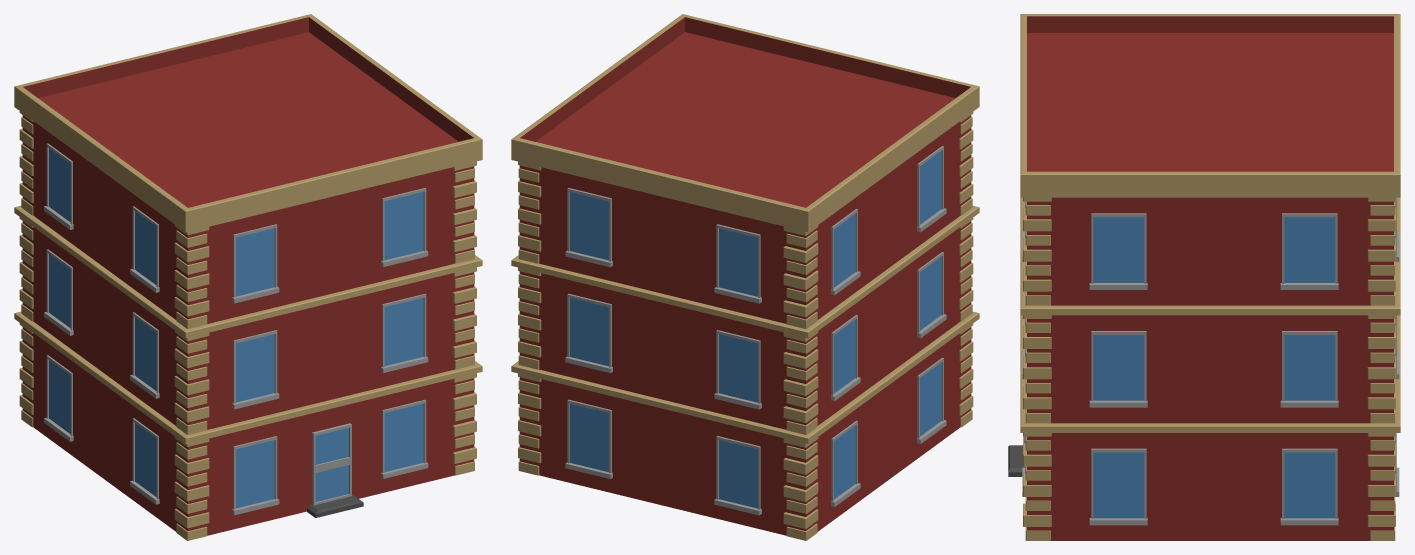
Rendered from GebouwRoodLaagZonderTrap.fbx.
3 renders of one model, left to right at view 1: azimuth 30°, elevation 25°; view 2: azimuth 150°, elevation 25°; view 3: azimuth 270°, elevation 25°, orthographic. The views are drawn at different scales.
Visible parts, largest first — view 1: gebouwRoodLaagZonderTrap; view 2: gebouwRoodLaagZonderTrap; view 3: gebouwRoodLaagZonderTrap.
Part boxes in pixels (<box>): gebouwRoodLaagZonderTrap: <box>14,14,482,540</box>; gebouwRoodLaagZonderTrap: <box>511,14,979,540</box>; gebouwRoodLaagZonderTrap: <box>1008,14,1400,540</box>.
Bounding box in the file's own units: 622 × 667 × 642.
